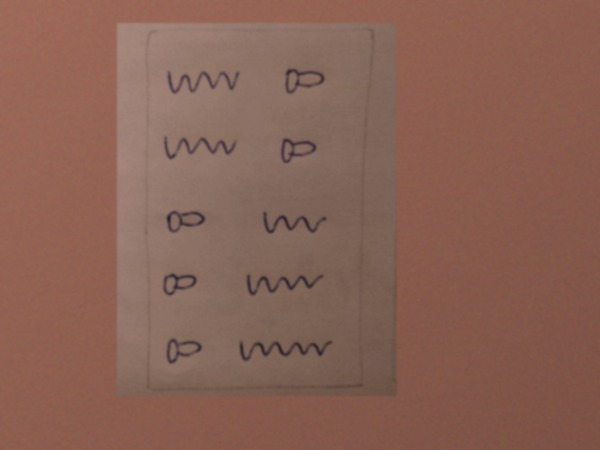switch: (279, 66, 333, 100), (161, 333, 209, 369), (161, 204, 210, 238), (277, 135, 320, 173), (159, 269, 204, 303)
text: (235, 335, 339, 371), (241, 269, 325, 304), (258, 205, 331, 240), (165, 67, 241, 100), (161, 135, 240, 165)
